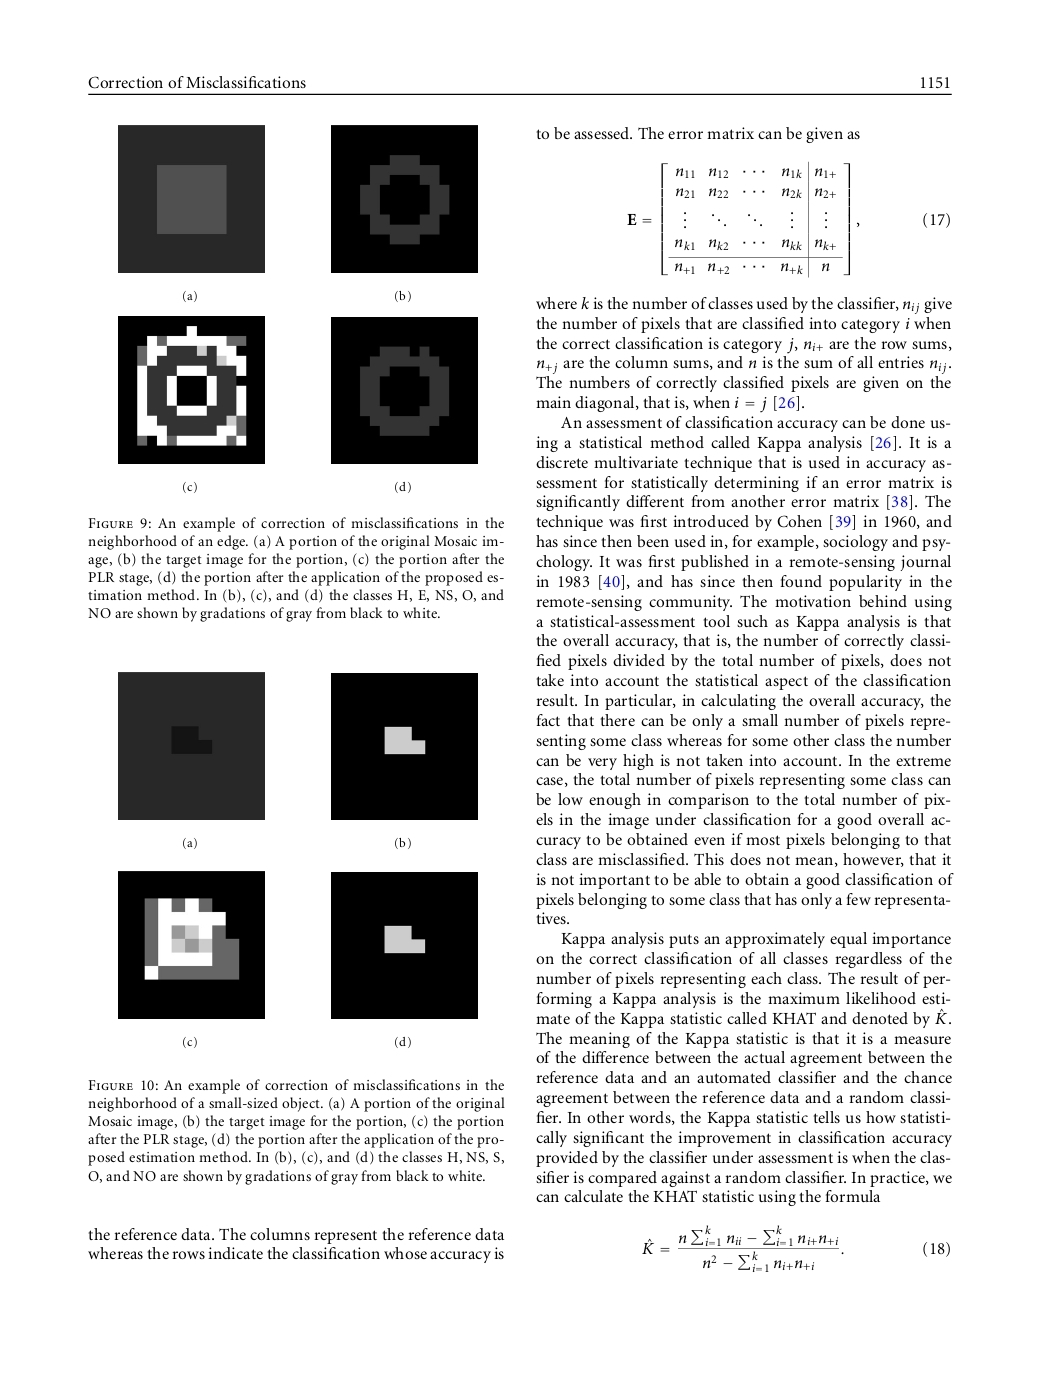figure: (331, 125, 477, 272), (118, 316, 264, 463), (118, 125, 264, 272), (118, 672, 264, 819), (118, 871, 264, 1018), (331, 317, 477, 463), (331, 673, 477, 819), (331, 872, 477, 1018), (88, 92, 952, 95)
formula: (627, 159, 949, 279), (642, 1224, 949, 1273)
